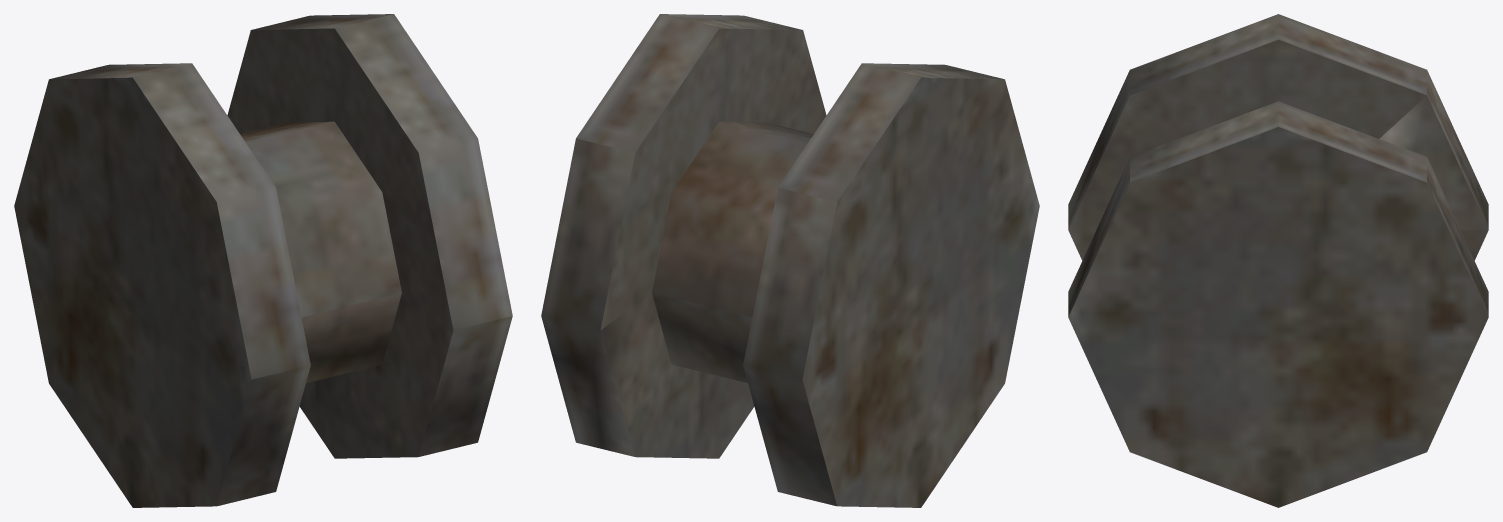
Rendered from nt_2020_pipes_modular_clampc_LOD2.obj.
3 renders of one model, left to right at view 1: azimuth 30°, elevation 25°; view 2: azimuth 150°, elevation 25°; view 3: azimuth 270°, elevation 25°, orthographic. The views are drawn at different scales.
Visible parts, largest first — view 1: mtl_nt_2020_pipes_modular_blue; view 2: mtl_nt_2020_pipes_modular_blue; view 3: mtl_nt_2020_pipes_modular_blue.
Boxes of the visible parts, x1,y1,x2,y2 form: mtl_nt_2020_pipes_modular_blue: [14, 14, 512, 507]; mtl_nt_2020_pipes_modular_blue: [541, 14, 1039, 507]; mtl_nt_2020_pipes_modular_blue: [1068, 14, 1488, 507].
Size of the model in its own units: 34.07 by 53.61 by 53.61.
